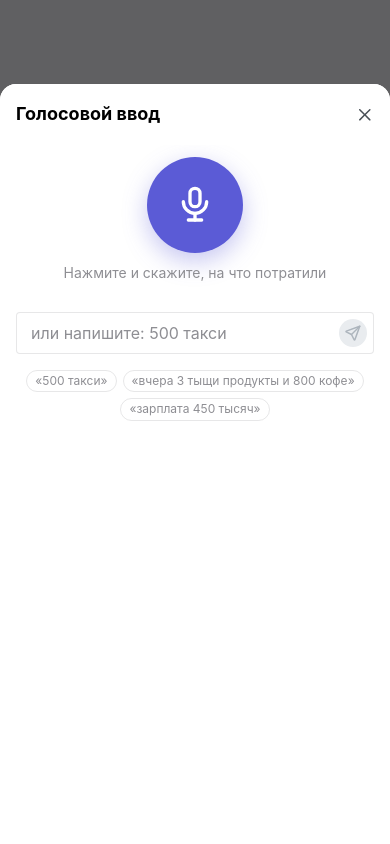
Scenario: VoiceSheet › shows the server message when parsing fails and stays on capture
The width and height of the screenshot is (390, 844).
In the field with placeholder "или напишите: 500 такси": (195, 332) [16,312,374,354], type "что-то"
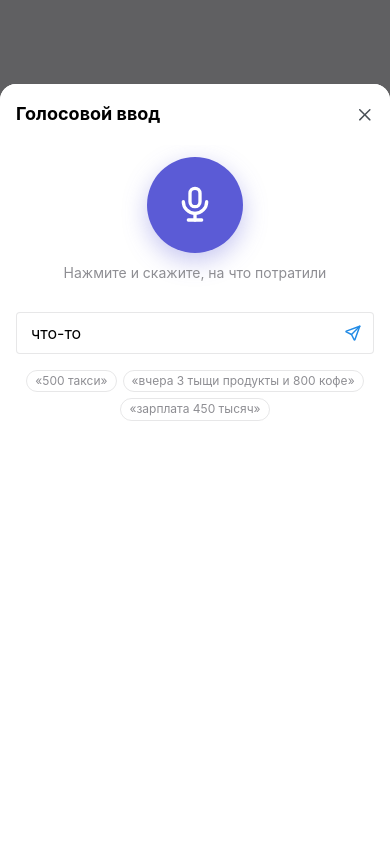
Press Enter in the field with placeholder "или напишите: 500 такси", box [16,312,374,354]
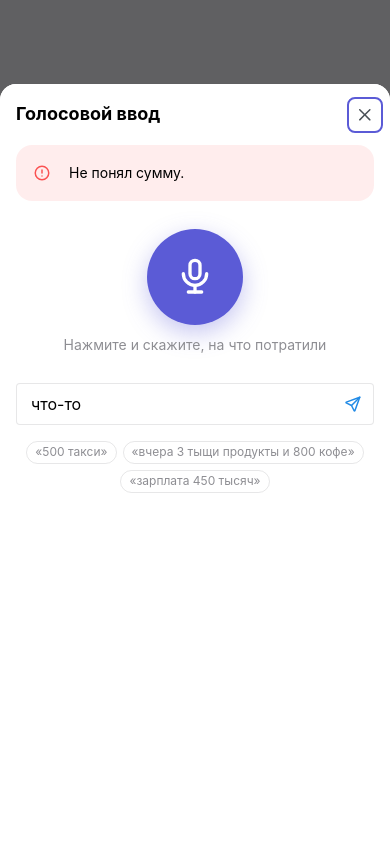
expect the text "Не понял сумму." is shown: met, box [69,164,184,181]
expect the field with placeholder "или напишите: 500 такси" is shown: met, box [16,383,374,425]
